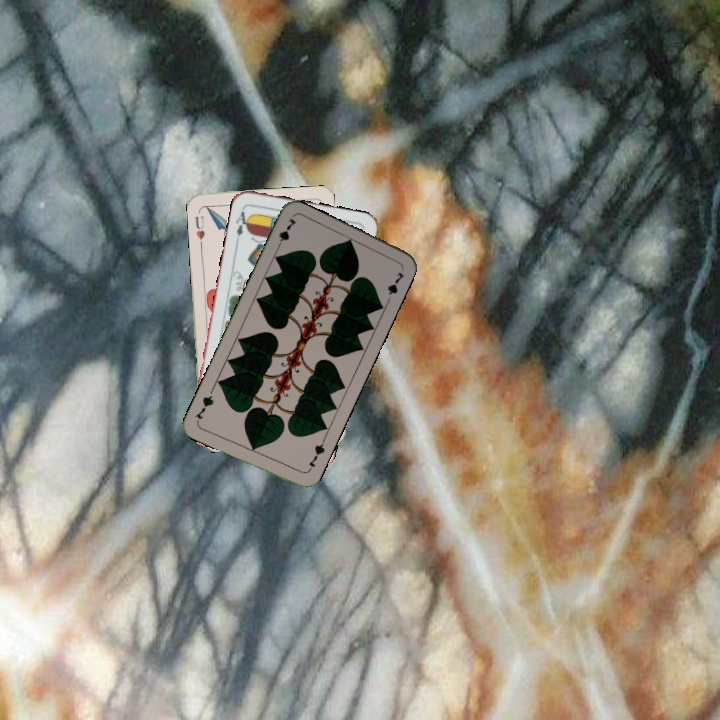EA: (232, 204, 253, 239)
G7: (272, 214, 299, 252), (304, 436, 327, 474)
HU: (191, 212, 207, 248)
